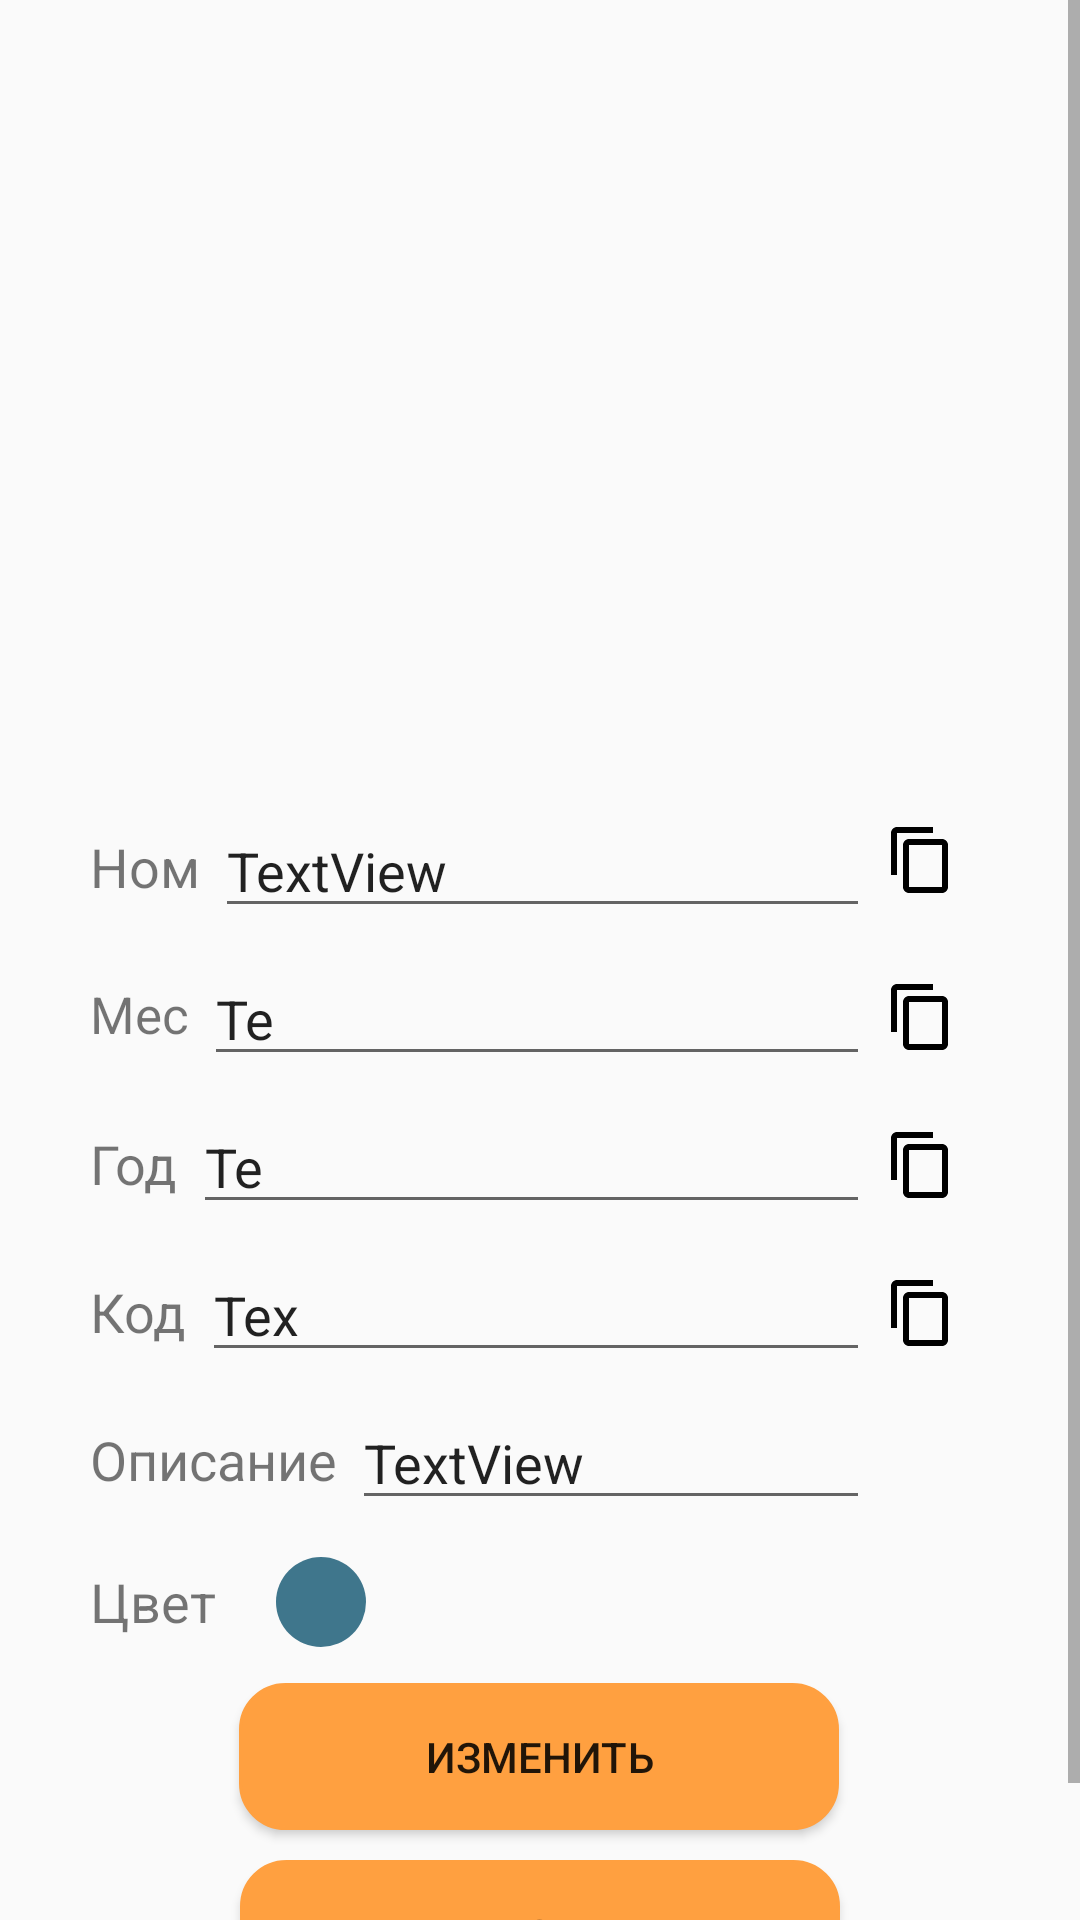

Icon bounding boxes for this 1080 × 1920 phone screenshot, format (x1, y1, x2, y2):
copyicon: (891, 827, 948, 893), (891, 984, 948, 1050), (891, 1132, 948, 1198), (891, 1280, 948, 1346)
